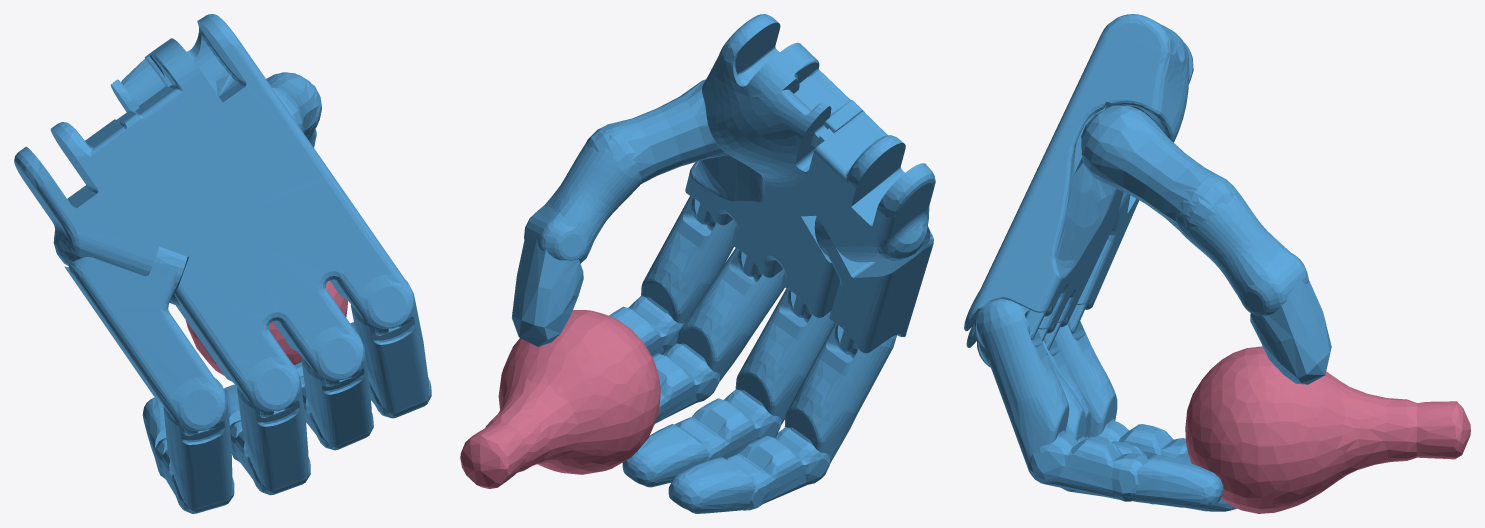
3 renders of one model, left to right at view 1: azimuth 30°, elevation 25°; view 2: azimuth 150°, elevation 25°; view 3: azimuth 270°, elevation 25°, orthographic.
Parts seen in each view (by area): view 1: 3; view 2: 3; view 3: 3.
Part boxes in pixels (left/top/right/bottom): 3: left=14, top=14, right=431, bottom=513; 3: left=460, top=14, right=935, bottom=513; 3: left=964, top=14, right=1470, bottom=513.
Size of the model in its own units: 0.1372 by 0.1641 by 0.159.
